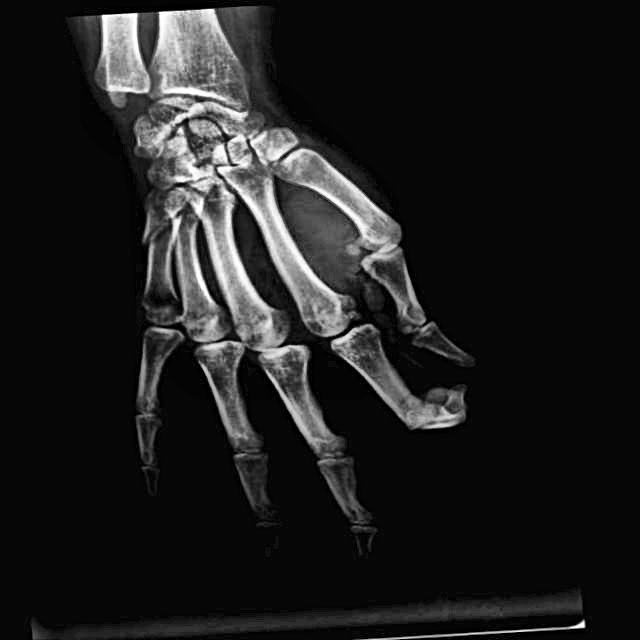Comminuted: (399, 372, 475, 453)
Oblique Displaced: (120, 188, 193, 265)
